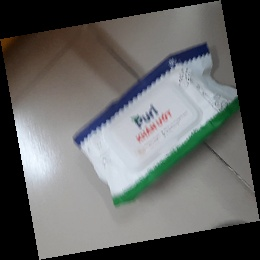Puri Trang: (72, 42, 248, 206)
